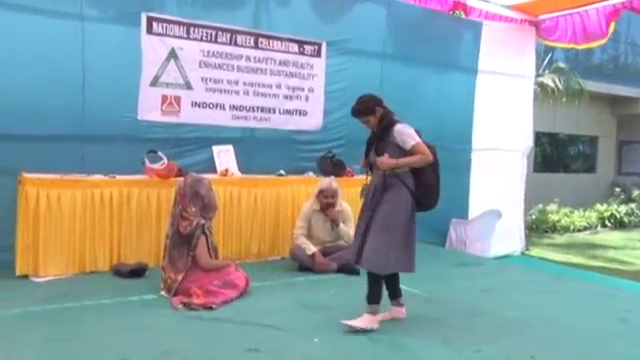helmet_off: (174, 176, 218, 224), (350, 93, 388, 134), (315, 178, 340, 214)
person: (345, 92, 441, 332), (157, 174, 250, 311), (289, 176, 362, 278)
